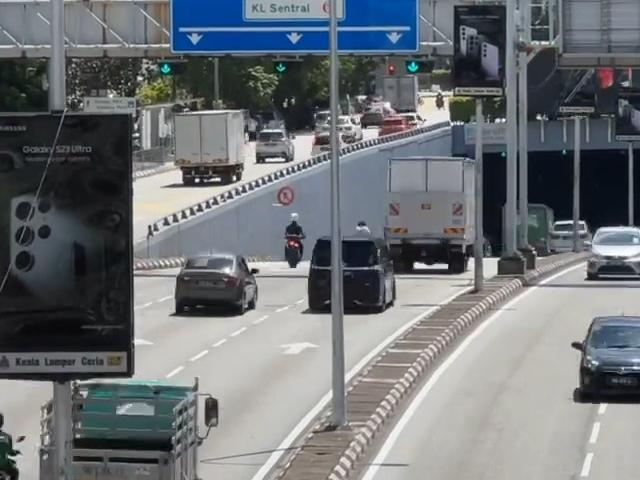car: (558, 305, 640, 405), (308, 232, 403, 315), (177, 253, 262, 320), (586, 223, 640, 285)
motorcycle: (0, 382, 22, 480), (283, 213, 306, 266)
truck: (43, 376, 225, 480), (385, 150, 483, 272)
